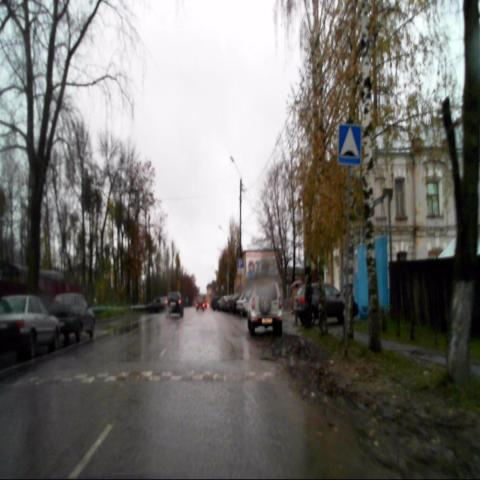5_20: (338, 124, 361, 164)
